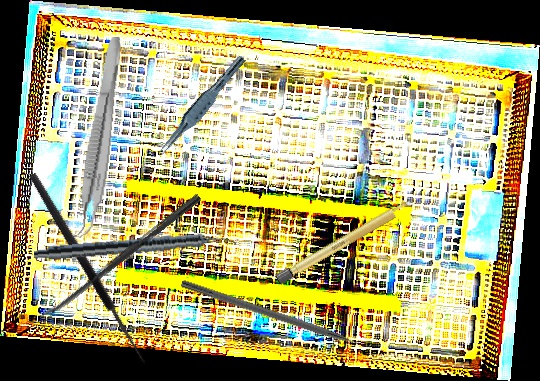Handpiece: (33, 229, 237, 266)
Hook Surgical: (26, 166, 159, 366), (179, 278, 381, 357)
Scalpel Handle: (273, 196, 418, 286)
Surgical Spoon: (39, 192, 202, 323)
Tissue Forceps: (72, 34, 124, 241), (155, 50, 247, 161)
